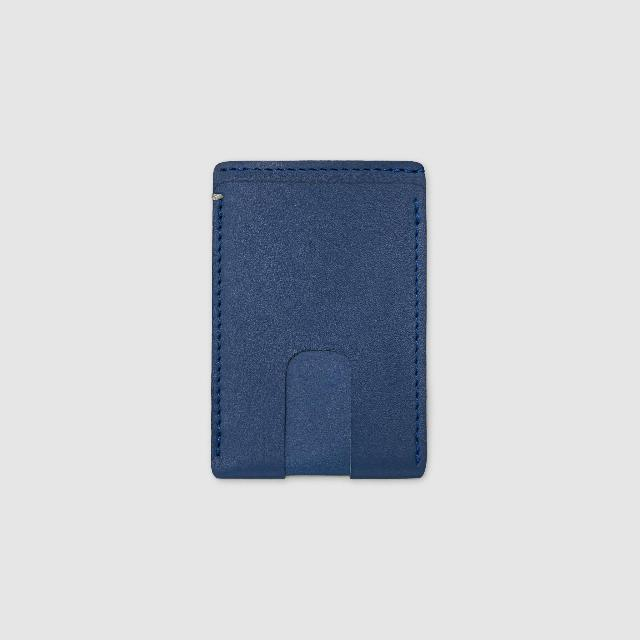wallet: (208, 154, 430, 484)
